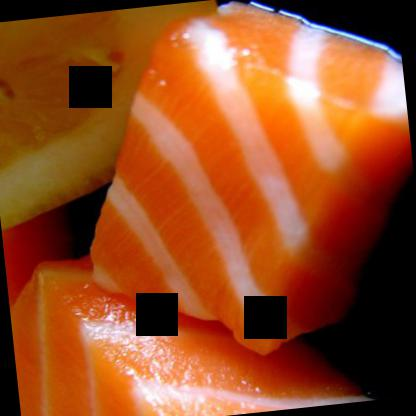salmon: (55, 0, 415, 360), (4, 223, 386, 415)
